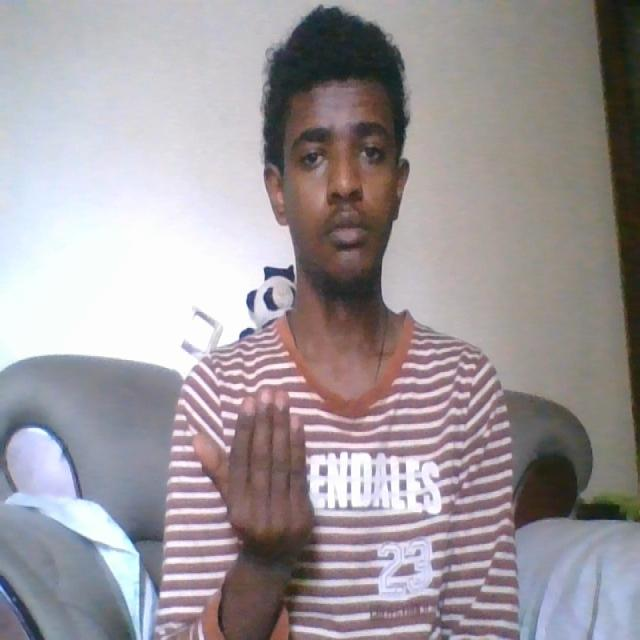na: (193, 384, 316, 568)
